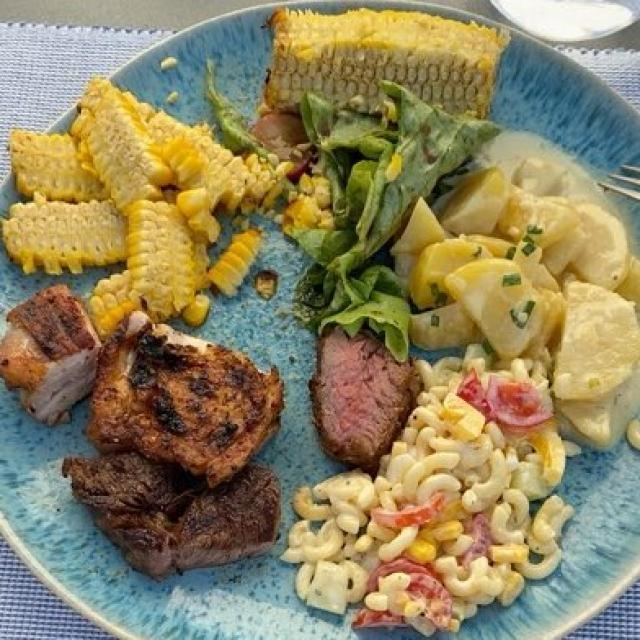bacon: (11, 282, 107, 421)
chicken: (84, 310, 294, 472)
corn: (9, 89, 278, 315)
meat: (60, 322, 412, 578)
potato-salad: (409, 153, 630, 455)
salad: (284, 79, 494, 354)
